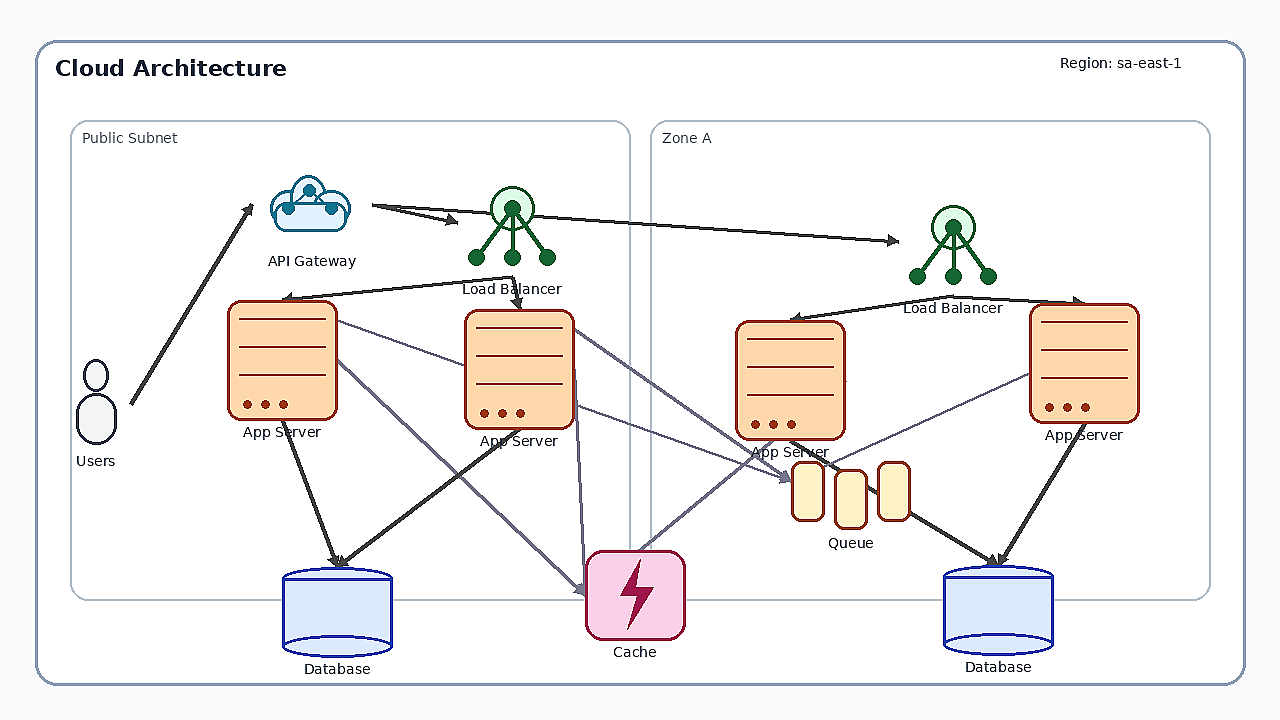API Gateway: (252, 159, 372, 249)
Application Server: (227, 300, 337, 420), (735, 320, 845, 440), (464, 309, 574, 429), (1029, 303, 1139, 423)
Cache: (585, 550, 685, 640)
Database: (282, 567, 392, 657), (943, 565, 1053, 655)
Load Balancer: (898, 186, 1008, 296), (457, 167, 567, 277)
Message Queue: (791, 461, 911, 531)
User: (61, 359, 131, 449)
